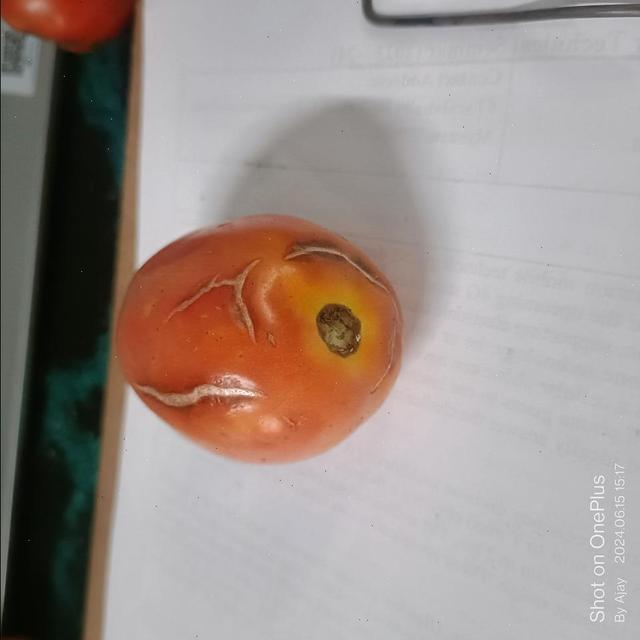Cracking Fruit: (107, 170, 258, 272)
